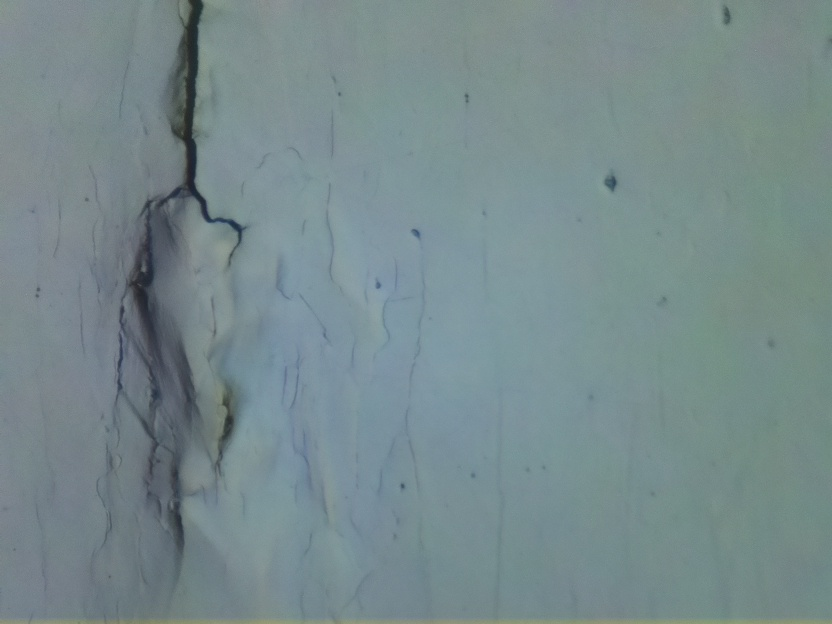crack: (169, 0, 236, 260)
